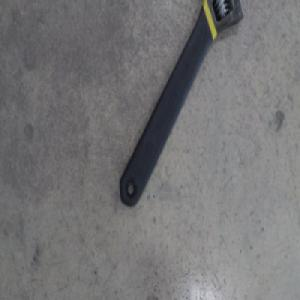AdjustableWrench: (118, 0, 241, 207)
